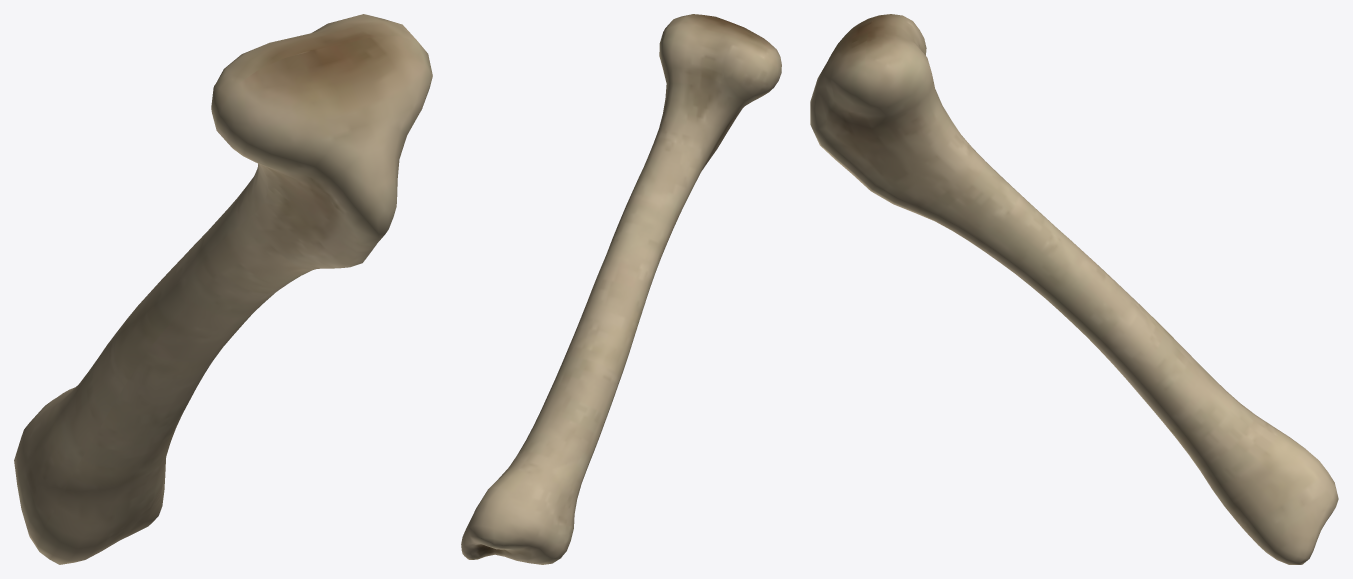
The model's file is Tibia.glb.
The picture shows the model from 3 angles, left to right: view 1: azimuth 30°, elevation 25°; view 2: azimuth 150°, elevation 25°; view 3: azimuth 270°, elevation 25°; orthographic projection. The views are drawn at different scales.
Visible parts, largest first — view 1: polySurface9; view 2: polySurface9; view 3: polySurface9.
Part boxes in pixels (x1,y1,x2,y2): polySurface9: (14, 14, 432, 564); polySurface9: (461, 14, 781, 564); polySurface9: (810, 14, 1338, 564).
Size of the model in its own units: 33.57 by 97.65 by 93.86.
Materials: 1 (1 with a texture image).
